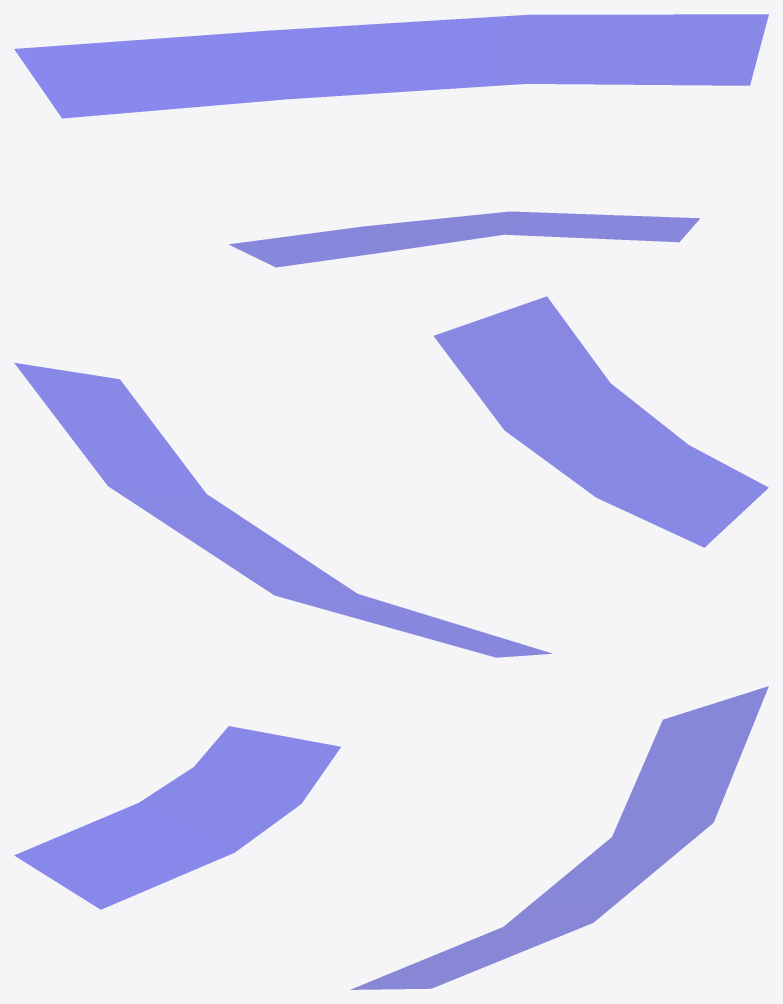
Rendered from track_la_coll_off_04.fbx.
The picture shows the model from 3 angles, top to bottom: view 1: azimuth 30°, elevation 25°; view 2: azimuth 150°, elevation 25°; view 3: azimuth 270°, elevation 25°; orthographic projection. The views are drawn at different scales.
Visible parts, largest first — view 1: track_la_coll_off_04; view 2: track_la_coll_off_04; view 3: track_la_coll_off_04.
Boxes of the visible parts, x1,y1,x2,y2 form: track_la_coll_off_04: [14, 14, 768, 267]; track_la_coll_off_04: [14, 296, 768, 657]; track_la_coll_off_04: [14, 686, 768, 989].
Bounding box in the file's own units: 59.46 × 5.37 × 61.29.
